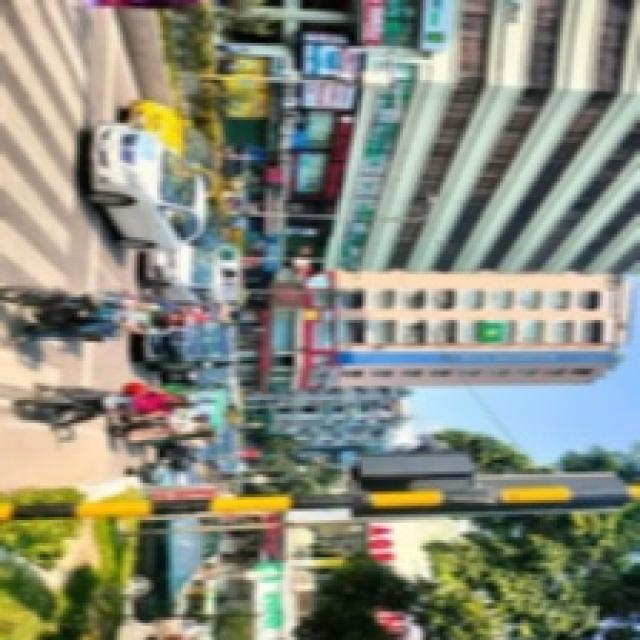bike: (82, 118, 208, 247), (10, 284, 138, 342), (149, 239, 228, 304), (24, 383, 148, 423)
car: (84, 118, 211, 241), (129, 467, 218, 627), (146, 305, 242, 373), (154, 242, 229, 307)
